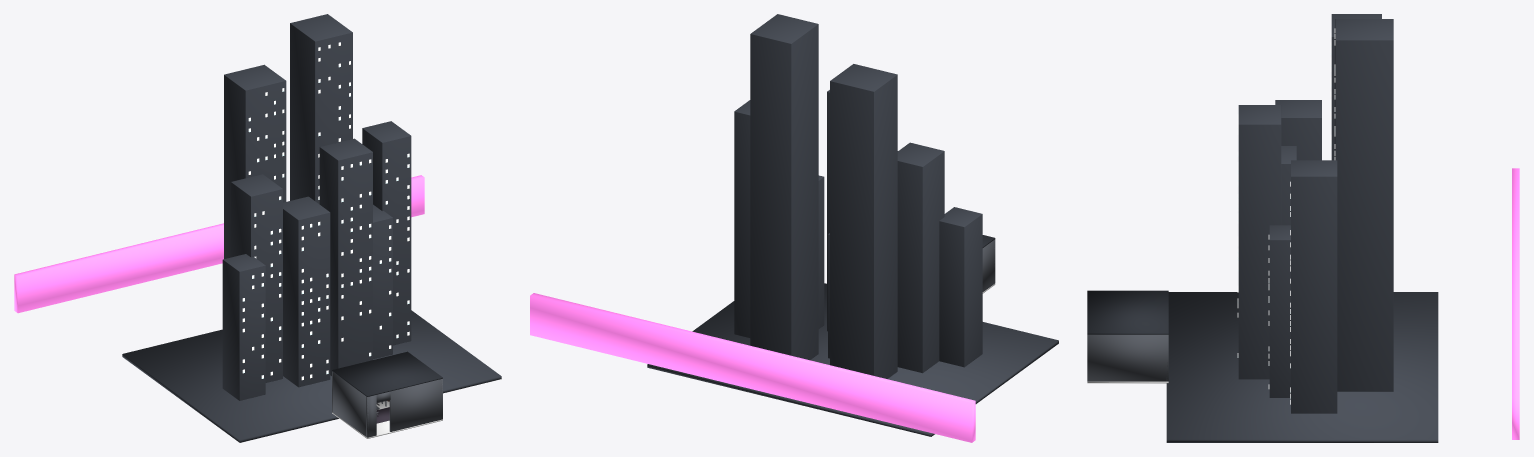
The model's file is gaming_room.glb.
3 views of the same model, side by side, from view 1: azimuth 30°, elevation 25°; view 2: azimuth 150°, elevation 25°; view 3: azimuth 270°, elevation 25° (orthographic). The views are drawn at different scales.
Visible parts, largest first — view 1: City_Ground, Bldg_1, Bldg_5, HorizonGlow, Bldg_0, Bldg_4, Bldg_3, Bldg_7, Bldg_6, Bldg_2, Ceiling, Wall_Front_R (+1 smaller); view 2: Bldg_5, Bldg_4, HorizonGlow, Bldg_3, City_Ground, Bldg_7, Bldg_6, Bldg_2, Wall_Left, Bldg_1; view 3: City_Ground, Bldg_5, Bldg_6, Bldg_1, Wall_Right, Bldg_2, Ceiling, Bldg_3, HorizonGlow, Bldg_0, Bldg_4.
Part boxes in pixels (x1,y1,x2,y2): City_Ground: (122, 310, 501, 442); Bldg_1: (319, 138, 372, 375); Bldg_5: (290, 14, 352, 204); HorizonGlow: (14, 175, 424, 313); Bldg_0: (283, 196, 330, 387); Bldg_4: (224, 64, 286, 258); Bldg_3: (231, 174, 282, 382); Bldg_7: (222, 254, 265, 400); Bldg_6: (362, 121, 411, 345); Bldg_2: (373, 204, 392, 359); Ceiling: (332, 351, 442, 396); Wall_Front_R: (389, 379, 442, 431); Bldg_5: (750, 14, 818, 360); Bldg_4: (830, 64, 897, 378); HorizonGlow: (530, 293, 975, 442); Bldg_3: (897, 142, 944, 373); City_Ground: (647, 283, 1058, 436); Bldg_7: (939, 207, 982, 367); Bldg_6: (734, 100, 750, 337); Bldg_2: (818, 175, 824, 328); Wall_Left: (982, 239, 995, 291); Bldg_1: (827, 90, 829, 331); City_Ground: (1166, 292, 1438, 442); Bldg_5: (1335, 19, 1393, 391); Bldg_6: (1291, 160, 1337, 413); Bldg_1: (1238, 105, 1281, 379); Wall_Right: (1087, 334, 1168, 381); Bldg_2: (1269, 225, 1290, 397); Ceiling: (1087, 290, 1168, 334); Bldg_3: (1275, 100, 1321, 160); HorizonGlow: (1512, 168, 1519, 439); Bldg_0: (1281, 146, 1296, 225); Bldg_4: (1331, 14, 1381, 160).
Bounding box in the file's own units: 28 × 20.5 × 22.3.
